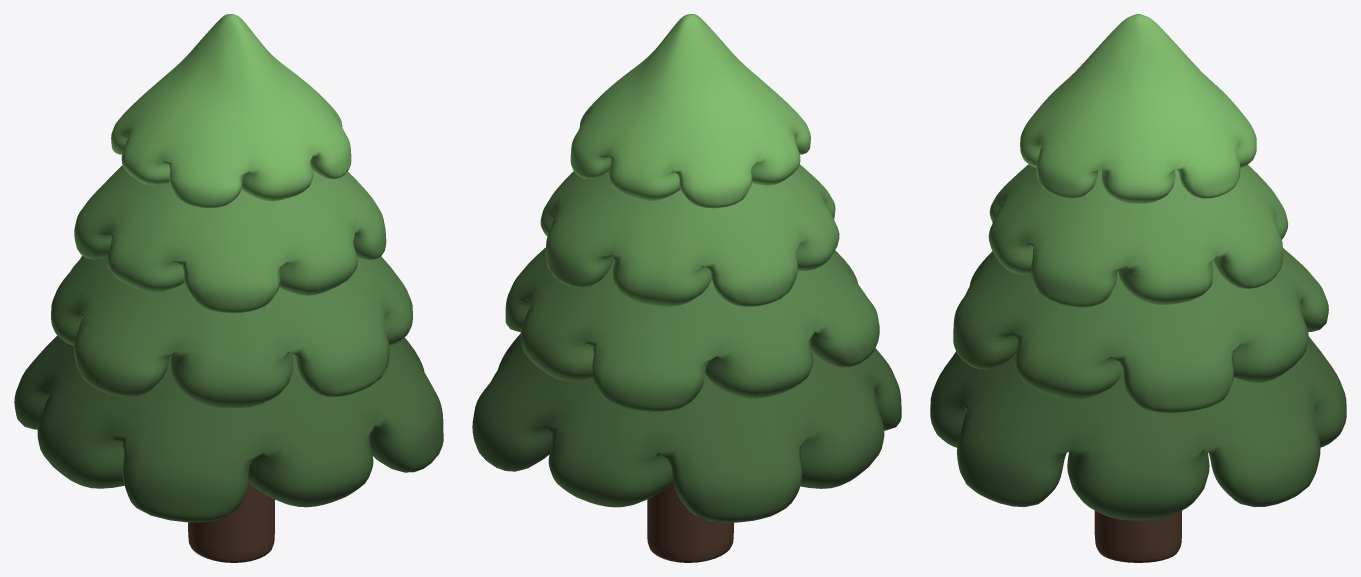
Rendered from Tree_Geo.fbx.
3 renders of one model, left to right at view 1: azimuth 30°, elevation 25°; view 2: azimuth 150°, elevation 25°; view 3: azimuth 270°, elevation 25°, orthographic.
Visible parts, largest first — view 1: Tree_geo; view 2: Tree_geo; view 3: Tree_geo.
Boxes of the visible parts, x1,y1,x2,y2 form: Tree_geo: (14, 14, 443, 562); Tree_geo: (472, 14, 901, 562); Tree_geo: (930, 14, 1346, 562).
Bounding box in the file's own units: 12.29 × 17.48 × 12.35.
